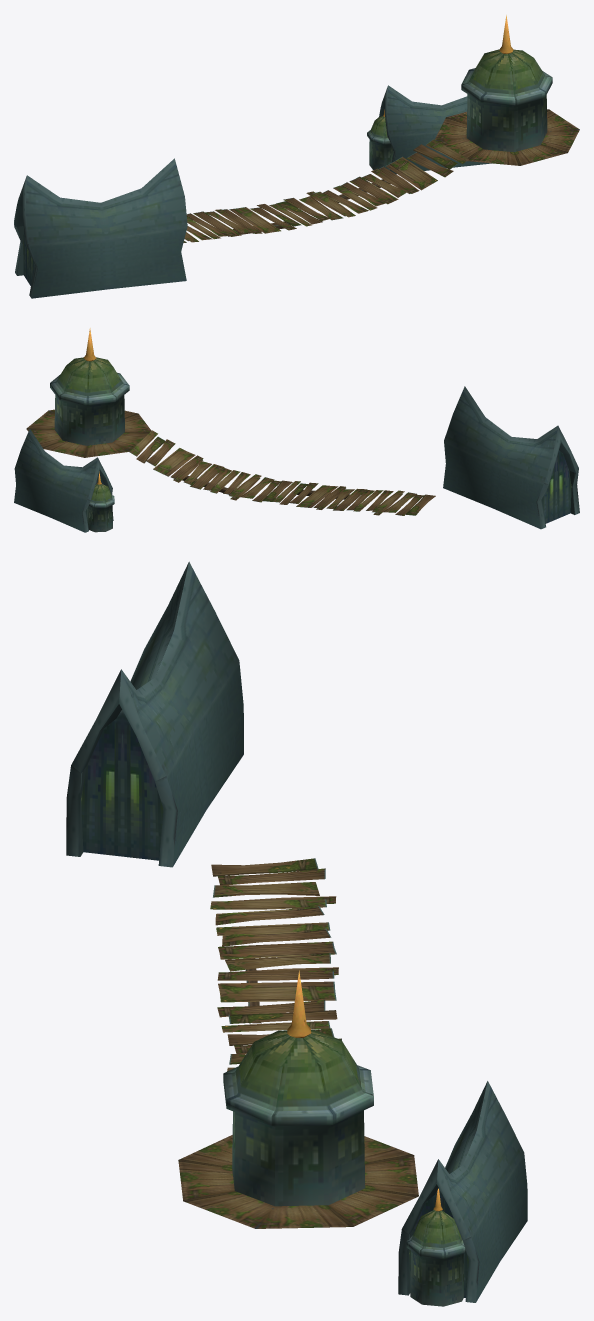
File: Level01_yuanjing.FBX
3 views of the same model, one above another, from view 1: azimuth 30°, elevation 25°; view 2: azimuth 150°, elevation 25°; view 3: azimuth 270°, elevation 25° (orthographic). The views are drawn at different scales.
Visible parts, largest first — view 1: Level01_wuding01, Level01_tianzi01, Level01_diaoqiao, Level01_wuding02; view 2: Level01_wuding01, Level01_tianzi01, Level01_diaoqiao, Level01_wuding02; view 3: Level01_wuding01, Level01_tianzi01, Level01_wuding02, Level01_diaoqiao.
Boxes of the visible parts, x1,y1,x2,y2 form: Level01_wuding01: (14, 158, 187, 298); Level01_tianzi01: (434, 15, 579, 165); Level01_diaoqiao: (183, 139, 468, 242); Level01_wuding02: (367, 85, 491, 174); Level01_wuding01: (443, 386, 579, 529); Level01_tianzi01: (26, 328, 151, 457); Level01_diaoqiao: (129, 430, 435, 515); Level01_wuding02: (14, 429, 114, 532); Level01_wuding01: (66, 561, 243, 867); Level01_tianzi01: (178, 970, 418, 1228); Level01_wuding02: (398, 1081, 527, 1306); Level01_diaoqiao: (210, 858, 341, 1071).
Bounding box in the file's own units: 68.01 × 19.55 × 27.03.
Materials: 1 (1 with a texture image).
